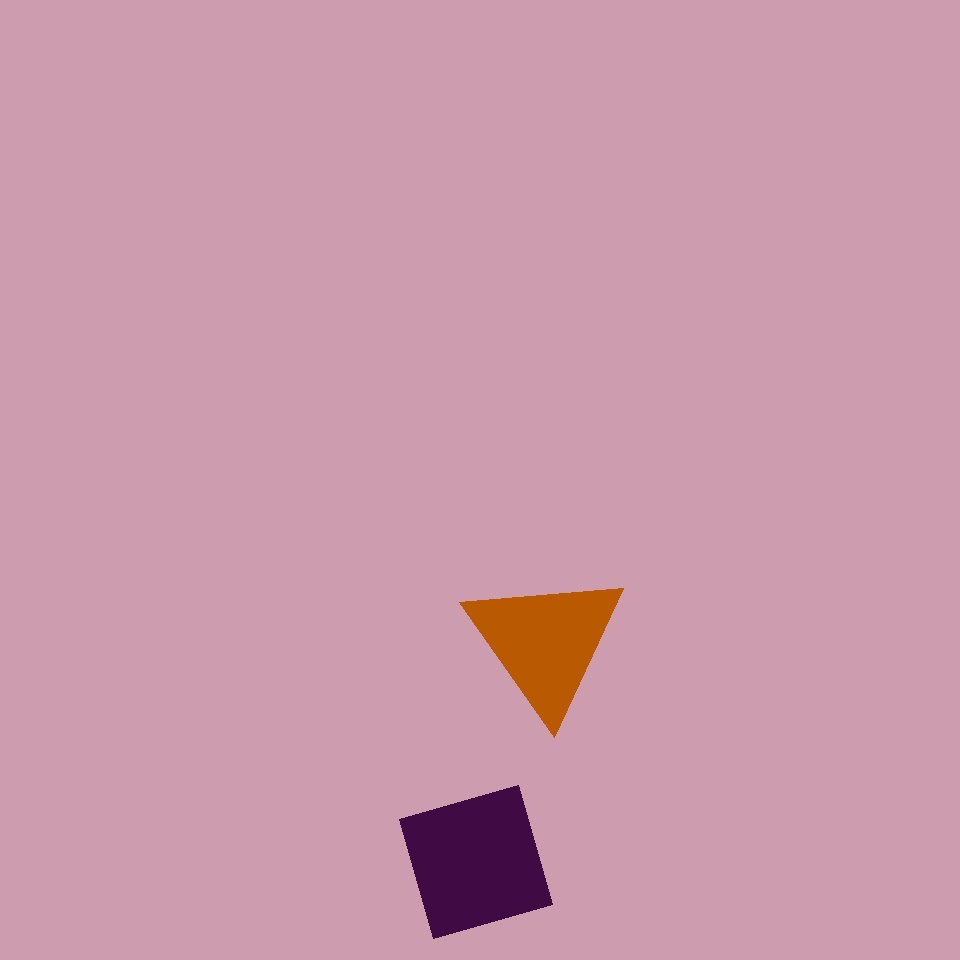circle: (380, 599, 668, 895), (464, 568, 628, 718)
square: (487, 237, 750, 500), (400, 786, 552, 938)
